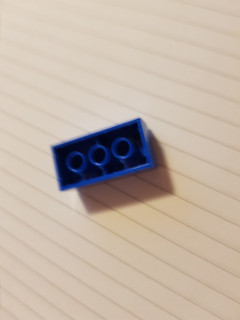2x4 blue: (49, 117, 158, 192)
